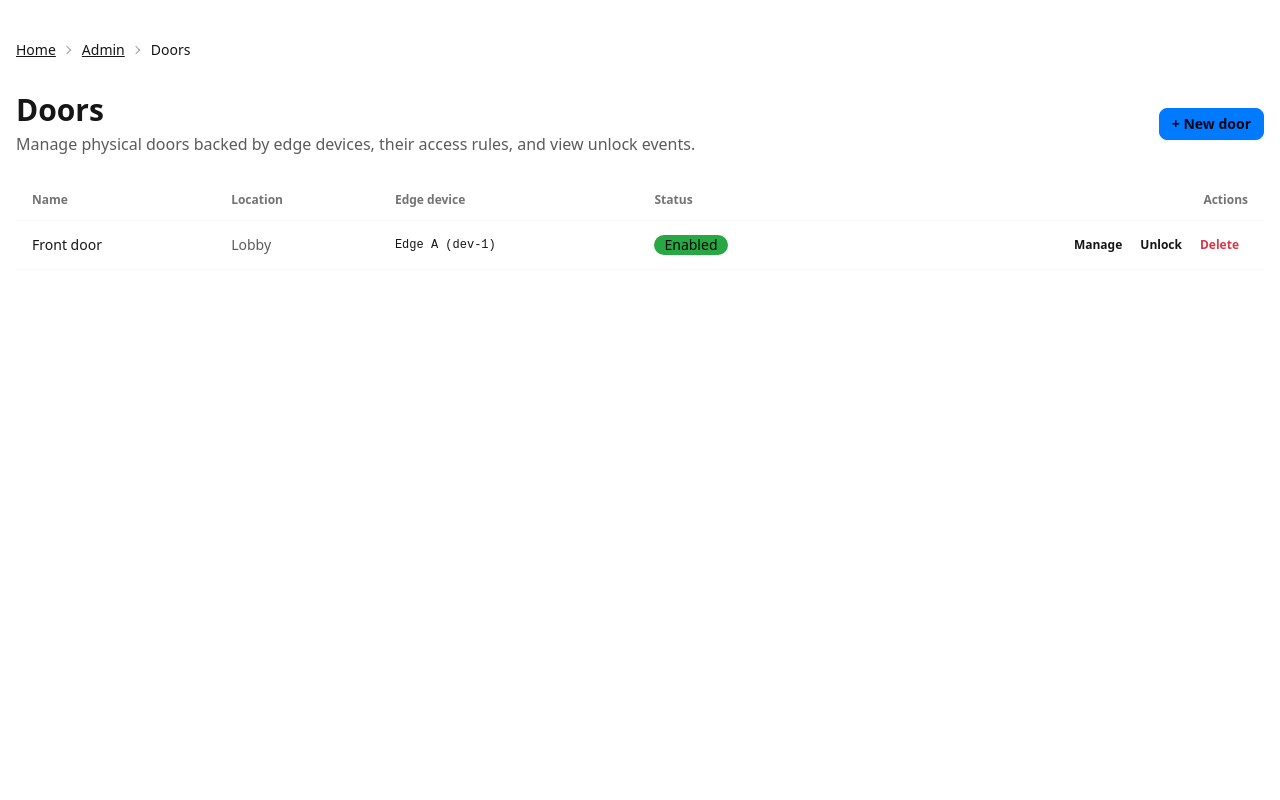
Test case: the rule editor › will not add a card rule with a blank value
Click the button "Manage".
click(1098, 245)  # box x1=1065 y1=233 x2=1131 y2=257
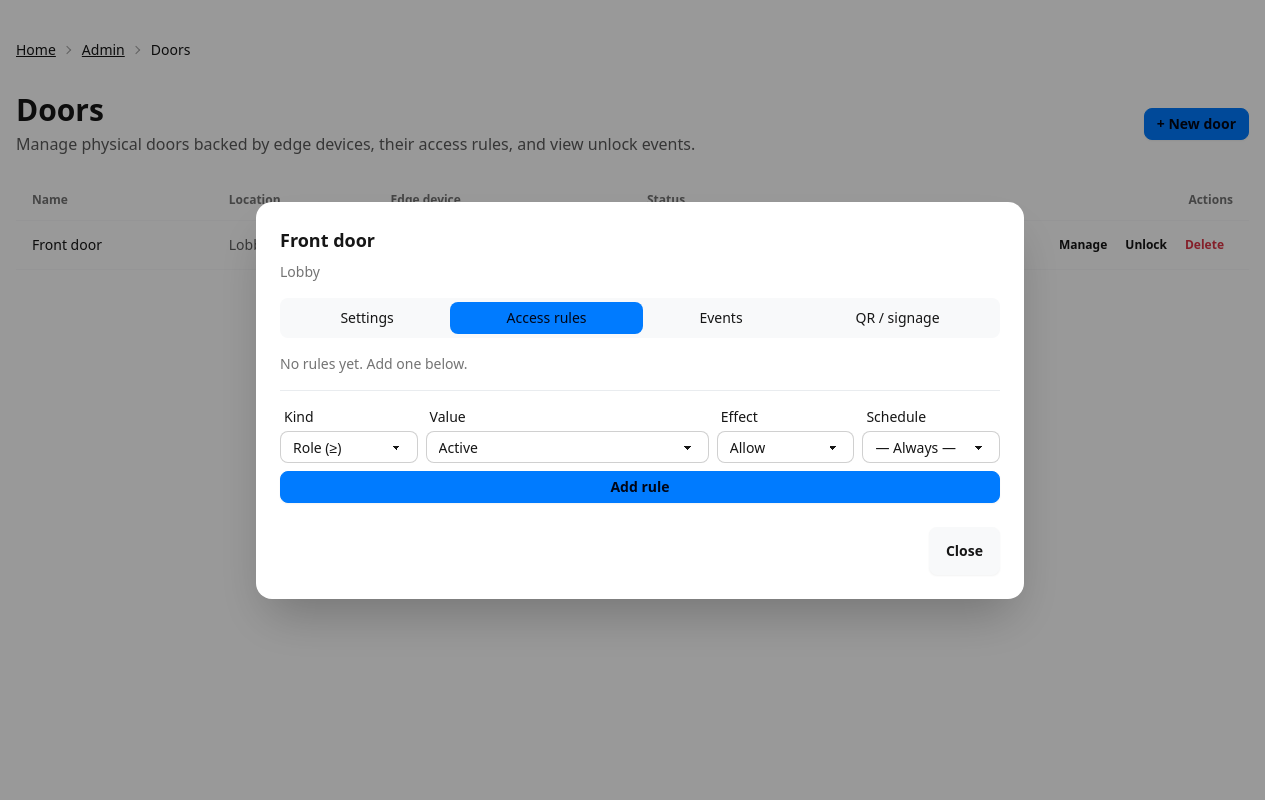
Select "Card ID" in the dropdown below "Kind" at (349, 446), box x1=280 y1=430 x2=418 y2=462
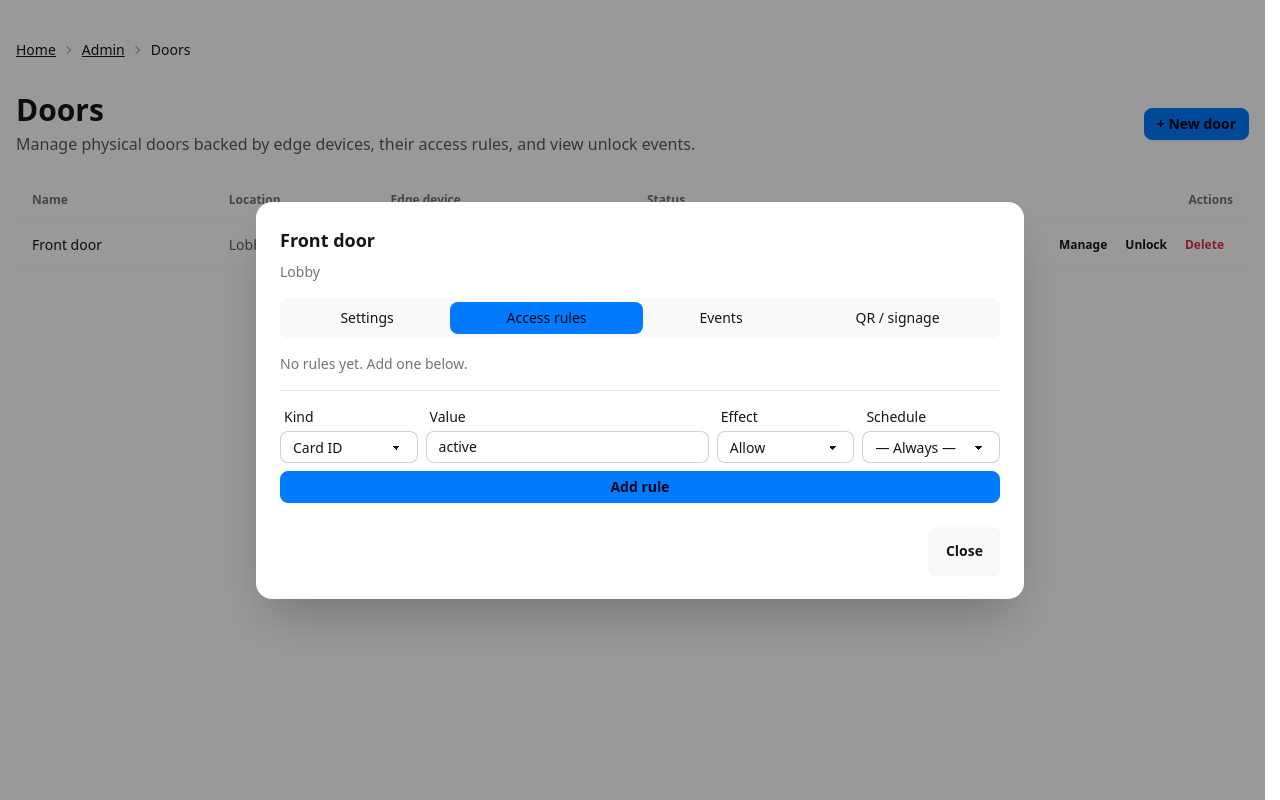
Clear the field with placeholder "card ID" at (567, 446), box x1=426 y1=430 x2=709 y2=462
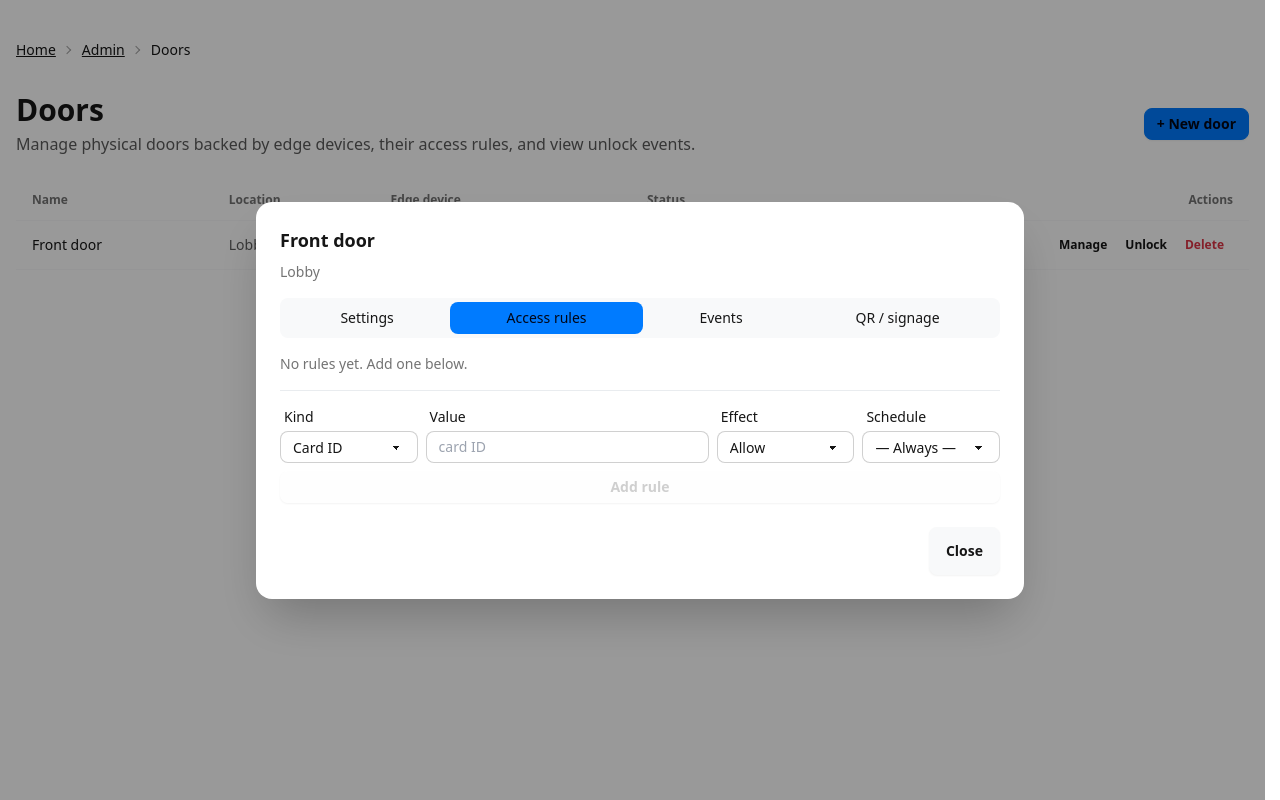
Expected: the button "Add rule" is disabled, x1=280 y1=470 x2=1000 y2=502
